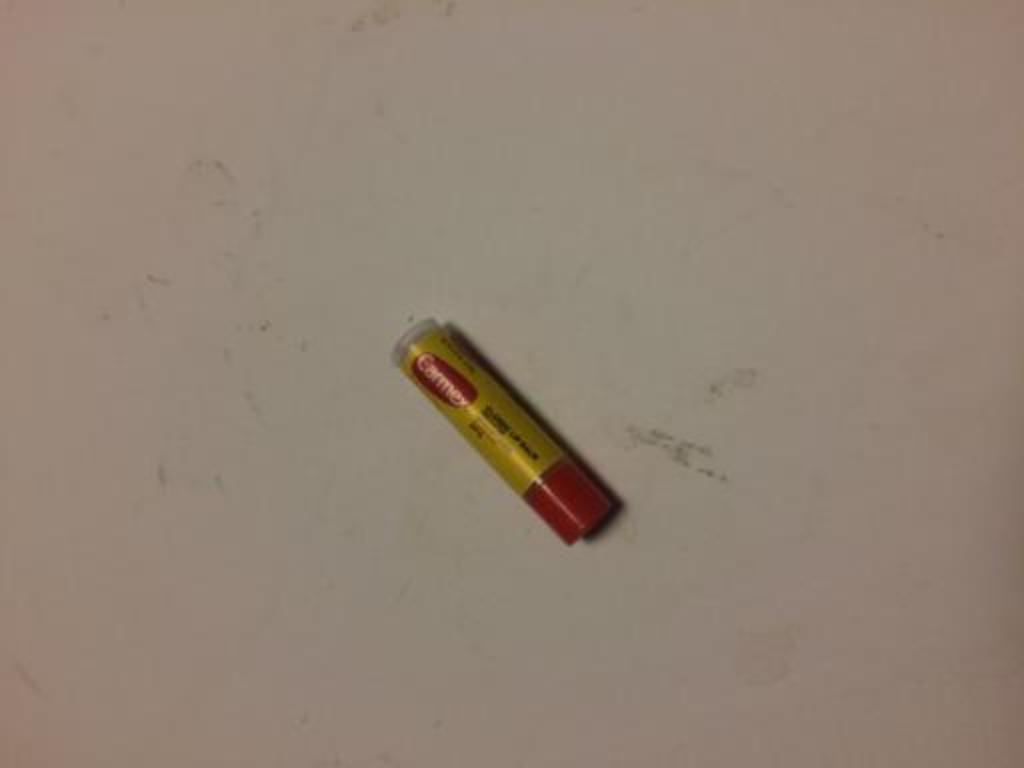garbage: (313, 279, 719, 613)
